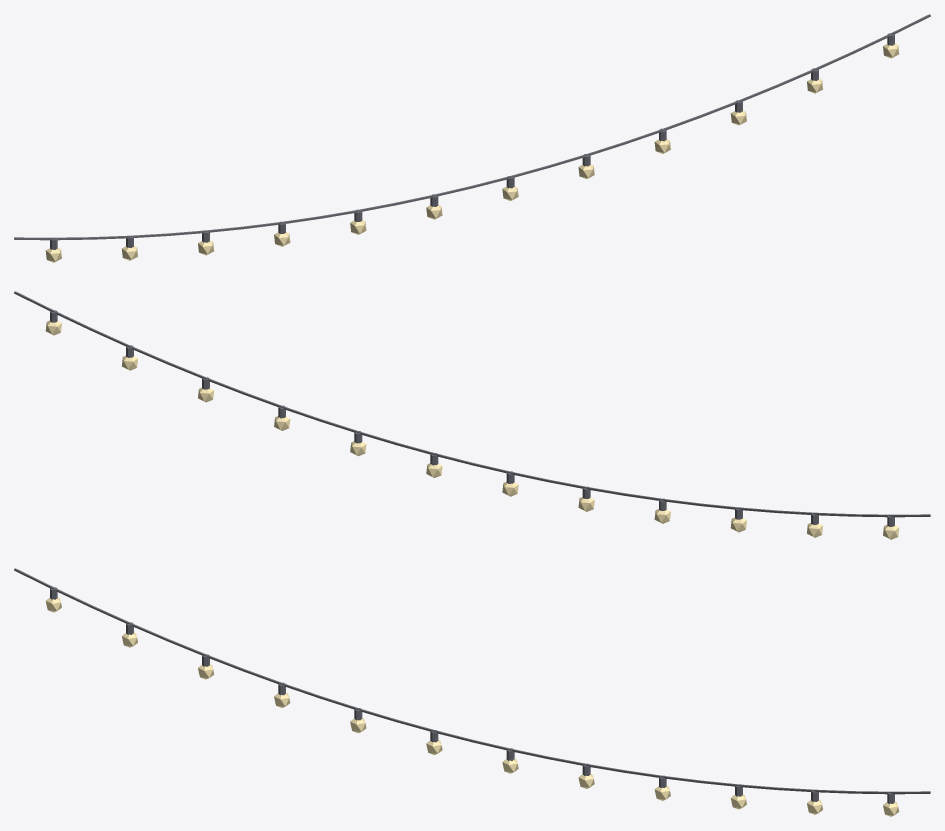
The model's file is StringLights.fbx.
3 views of the same model, one above another, from view 1: azimuth 30°, elevation 25°; view 2: azimuth 150°, elevation 25°; view 3: azimuth 330°, elevation 25° (orthographic).
Parts seen in each view (by area): view 1: StringLights; view 2: StringLights; view 3: StringLights.
Part boxes in pixels (x1=…): StringLights: x1=14, y1=14, x2=930, y2=262; StringLights: x1=14, y1=291, x2=930, y2=539; StringLights: x1=14, y1=568, x2=930, y2=816.
Bounding box in the file's own units: 8.02 × 0.7062 × 0.1191.
